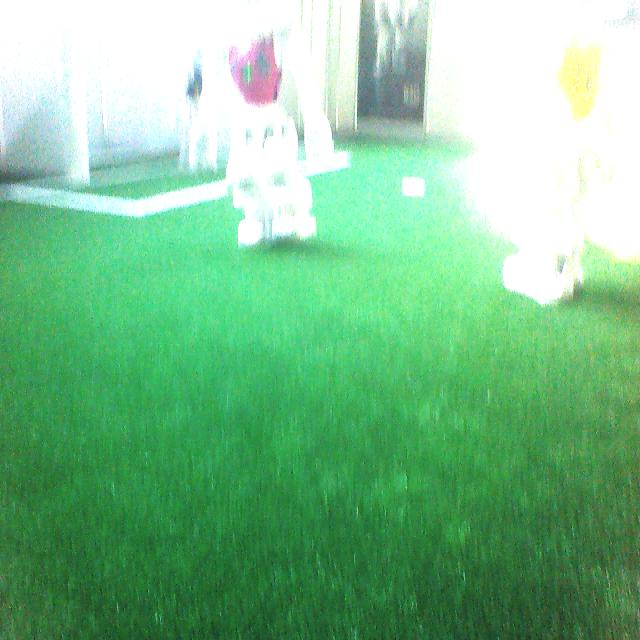goalpost: (63, 43, 89, 185)
